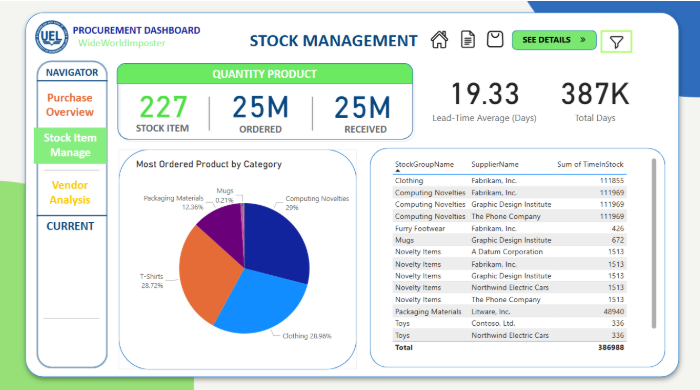

What the dashboard file says about the page in this screenshot:
{"tool":"powerbi","page":{"name":"stock","canvas":[1280,720],"ordinal":3},"visuals":[{"type":"shape","box":[51.7,28.3,1181.7,670],"z":0},{"type":"image","box":[1081.4,74.1,56,38],"z":0,"group":"g2"},{"type":"image","box":[75,50,73.3,68.3],"z":1000,"group":"g1"},{"type":"shape","box":[925,71.7,150,35],"z":1000,"group":"g2"},{"type":"shape","box":[672.9,280.6,522.6,388],"z":1000},{"type":"textbox","box":[143.8,56.2,250,35],"z":2000,"group":"g1"},{"type":"shape","box":[229.1,282.1,420.9,389.4],"z":2000},{"type":"image","box":[765.4,68.1,62,40],"z":3000,"group":"g2"},{"type":"textbox","box":[153.3,78.3,183.3,48.3],"z":3000,"group":"g1"},{"type":"image","box":[826.8,66.6,40,43.8],"z":4000,"group":"g2"},{"type":"shape","box":[84.5,126,126,544.1],"z":4000,"group":"g1"},{"type":"image","box":[869.3,66.6,52.5,43.8],"z":5000,"group":"g2"},{"type":"pieChart","title":"Most Ordered Product by Category","fields":{"Category":["dim_Stock.StockGroupName"],"Y":["CountNonNull(fact_PurchaseOrders.OrderedOuters)"]},"box":[254.9,299.2,393.7,369.4],"z":5000},{"type":"textbox","box":[456,65.1,397.1,50],"z":6000,"group":"g2"},{"type":"card","fields":{"Values":["Count(dim_Stock.StockItemID)"]},"box":[249.1,166.1,118.8,68.7],"z":6000},{"type":"textbox","title":"main","box":[938.4,73.7,141.2,36.2],"z":7000,"group":"g2"},{"type":"tableEx","fields":{"Values":["dim_Stock.StockGroupName","dimSuppliers.SupplierName","Sum(fact_PurchaseOrders.TimeInStock)"]},"box":[707.3,293.5,478.2,353.6],"z":7000},{"type":"actionButton","title":"Home","box":[770.5,67.9,45,41.2],"z":8000,"group":"g2"},{"type":"card","fields":{"Values":["Sum(fact_PurchaseOrders.TimeInStock)"]},"box":[947.1,114.3,248.6,147.1],"z":8000},{"type":"actionButton","title":"filter","box":[1081.4,72.1,56,40],"z":9000,"group":"g2"},{"type":"card","fields":{"Values":["fact_PurchaseOrders.Average TimeInStock"]},"box":[778.6,122.9,194.3,130],"z":9000},{"type":"image","box":[1033,76.3,35.7,24.3],"z":10000,"group":"g2"},{"type":"card","fields":{"Values":["Sum(fact_PurchaseOrders.OrderedOuters)"]},"box":[415.2,131.7,130.3,137.4],"z":10000},{"type":"shape","box":[221.9,126,532.6,144.6],"z":11000},{"type":"shape","box":[225.7,130,524,37.1],"z":12000},{"type":"card","fields":{"Values":["Sum(factPurchaseOrders.ReceivedOuters)"]},"box":[589.9,151.8,141.7,97.4],"z":13000},{"type":"textbox","box":[389.4,131.7,211.9,57.3],"z":14000},{"type":"textbox","box":[254.9,229.1,134.6,40.1],"z":15000},{"type":"textbox","box":[622.8,230.5,131.7,35.8],"z":16000},{"type":"textbox","box":[436.7,230.5,108.8,35.8],"z":17000},{"type":"shape","box":[362.2,189,53,60.1],"z":18000},{"type":"shape","box":[545.5,189,53,60.1],"z":19000},{"type":"group","id":"g1","title":"Group 3","box":[75,50,1086.4,620.1],"z":20000},{"type":"group","id":"g2","title":"Group 1","box":[456,65.1,681.4,50],"z":25000,"group":"g1"},{"type":"textbox","box":[95.9,130.3,113.1,37.2],"z":27000,"group":"g1"},{"type":"textbox","box":[80.2,173.2,127.4,63],"z":28000,"group":"g1"},{"type":"textbox","box":[79.5,244.3,129,64.3],"z":29000,"group":"g1"},{"type":"textbox","box":[91.6,327.9,104.5,63],"z":30000,"group":"g1"},{"type":"textbox","box":[97.4,399.5,113.1,37.2],"z":31000,"group":"g1"},{"type":"shape","box":[85.9,126,124.6,71.6],"z":35000,"group":"g1"},{"type":"shape","box":[97.4,283.5,98.8,71.6],"z":36000,"group":"g1"},{"type":"shape","box":[84.5,363.7,124.6,71.6],"z":38000,"group":"g1"},{"type":"shape","box":[97.4,545.5,98.8,71.6],"z":39000,"group":"g1"},{"type":"actionButton","title":"see detail","box":[925.7,68.6,151.4,40],"z":43000,"group":"g1"},{"type":"actionButton","title":"close detail","box":[924.3,71.4,155.7,40],"z":44000,"group":"g1"},{"type":"actionButton","box":[84.3,241.4,124.3,67.1],"z":45000,"group":"g1"},{"type":"actionButton","box":[88.6,322.9,121.4,75.7],"z":46000,"group":"g1"},{"type":"actionButton","box":[772.9,68.6,41.4,38.6],"z":47000,"group":"g1"},{"type":"actionButton","box":[870,68.6,51.4,40],"z":48000,"group":"g1"},{"type":"actionButton","box":[1110,65.7,51.4,50],"z":49000,"group":"g1"}]}

Visuals, with their boxes in screenshot pixels (x1, y1, x2, y2), scaled from the page's 1280x720 canvas onto the 700x390 screenshot:
shape: bbox=[28, 15, 675, 378]
image: bbox=[591, 40, 622, 61]
image: bbox=[41, 27, 81, 64]
shape: bbox=[506, 39, 588, 58]
shape: bbox=[368, 152, 654, 362]
textbox: bbox=[79, 30, 215, 49]
shape: bbox=[125, 153, 355, 364]
image: bbox=[419, 37, 452, 59]
textbox: bbox=[84, 42, 184, 69]
image: bbox=[452, 36, 474, 60]
shape: bbox=[46, 68, 115, 363]
image: bbox=[475, 36, 504, 60]
"Most Ordered Product by Category" pieChart: bbox=[139, 162, 355, 362]
textbox: bbox=[249, 35, 467, 62]
card - Count(dim_Stock.StockItemID): bbox=[136, 90, 201, 127]
"main" textbox: bbox=[513, 40, 590, 60]
tableEx - dim_Stock.StockGroupName x dimSuppliers.SupplierName: bbox=[387, 159, 648, 351]
"Home" actionButton: bbox=[421, 37, 446, 59]
card - Sum(fact_PurchaseOrders.TimeInStock): bbox=[518, 62, 654, 142]
"filter" actionButton: bbox=[591, 39, 622, 61]
card - fact_PurchaseOrders.Average TimeInStock: bbox=[426, 67, 532, 137]
image: bbox=[565, 41, 584, 54]
card - Sum(fact_PurchaseOrders.OrderedOuters): bbox=[227, 71, 298, 146]
shape: bbox=[121, 68, 413, 147]
shape: bbox=[123, 70, 410, 91]
card - Sum(factPurchaseOrders.ReceivedOuters): bbox=[323, 82, 400, 135]
textbox: bbox=[213, 71, 329, 102]
textbox: bbox=[139, 124, 213, 146]
textbox: bbox=[341, 125, 413, 144]
textbox: bbox=[239, 125, 298, 144]
shape: bbox=[198, 102, 227, 135]
shape: bbox=[298, 102, 327, 135]
"Group 3" group: bbox=[41, 27, 635, 363]
"Group 1" group: bbox=[249, 35, 622, 62]
textbox: bbox=[52, 71, 114, 91]
textbox: bbox=[44, 94, 114, 128]
textbox: bbox=[43, 132, 114, 167]
textbox: bbox=[50, 178, 107, 212]
textbox: bbox=[53, 216, 115, 237]
shape: bbox=[47, 68, 115, 107]
shape: bbox=[53, 154, 107, 192]
shape: bbox=[46, 197, 114, 236]
shape: bbox=[53, 295, 107, 334]
"see detail" actionButton: bbox=[506, 37, 589, 59]
"close detail" actionButton: bbox=[505, 39, 591, 60]
actionButton: bbox=[46, 131, 114, 167]
actionButton: bbox=[48, 175, 115, 216]
actionButton: bbox=[423, 37, 445, 58]
actionButton: bbox=[476, 37, 504, 59]
actionButton: bbox=[607, 36, 635, 63]
